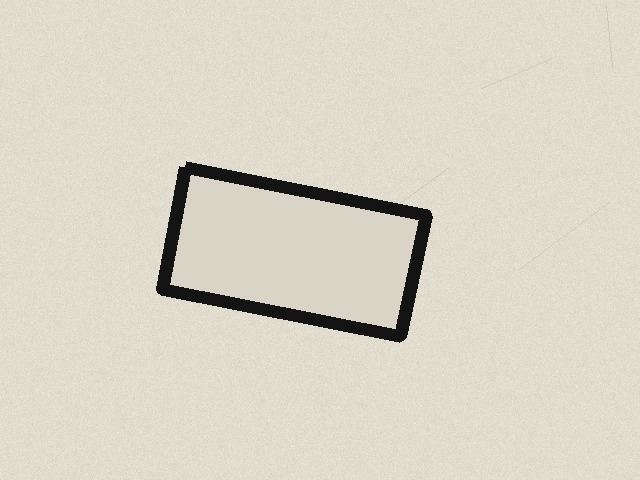parking_area: (162, 167, 426, 336)
